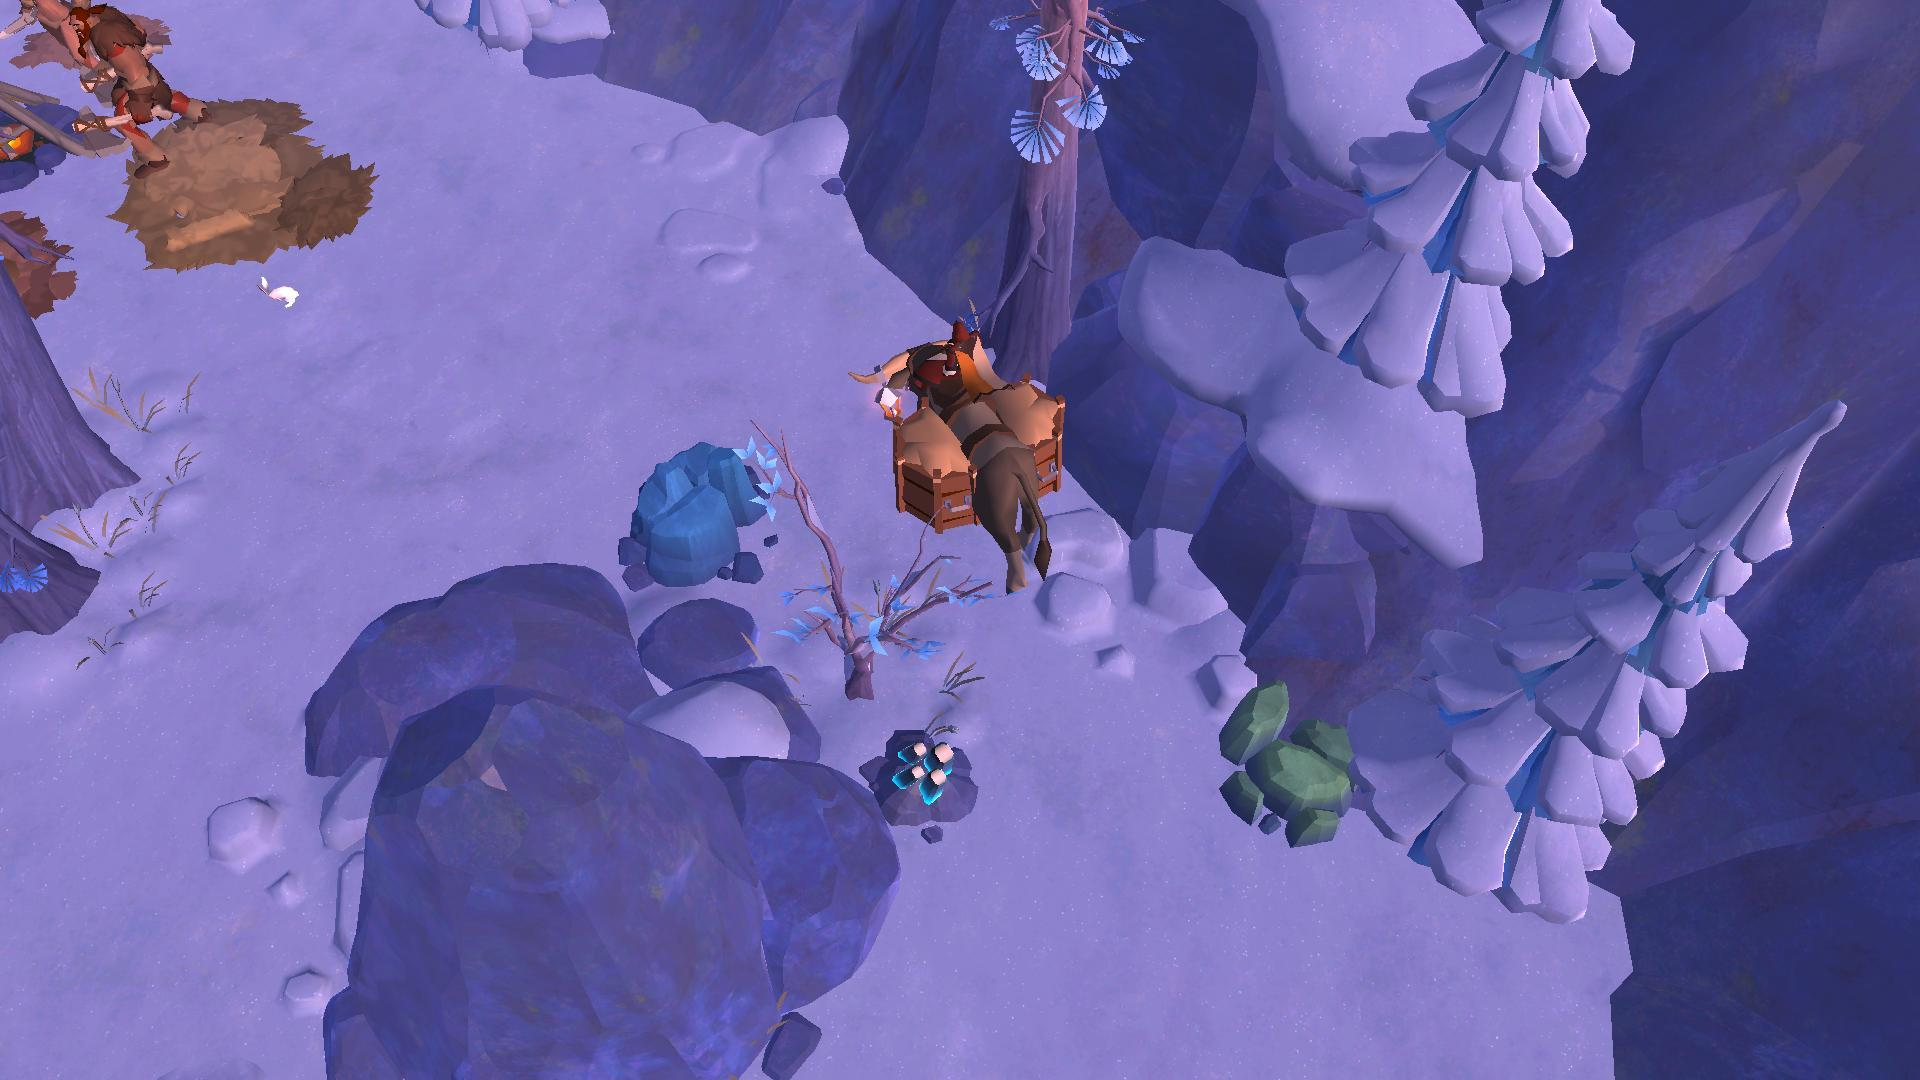enemy_factionKeeper: (66, 1, 204, 138)
ore_t4: (891, 737, 956, 804)
rock_t3: (1204, 666, 1379, 852)
rock_t4: (628, 438, 781, 591)
